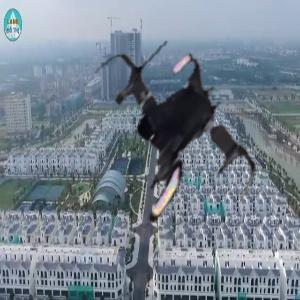drone: (59, 36, 269, 246)
